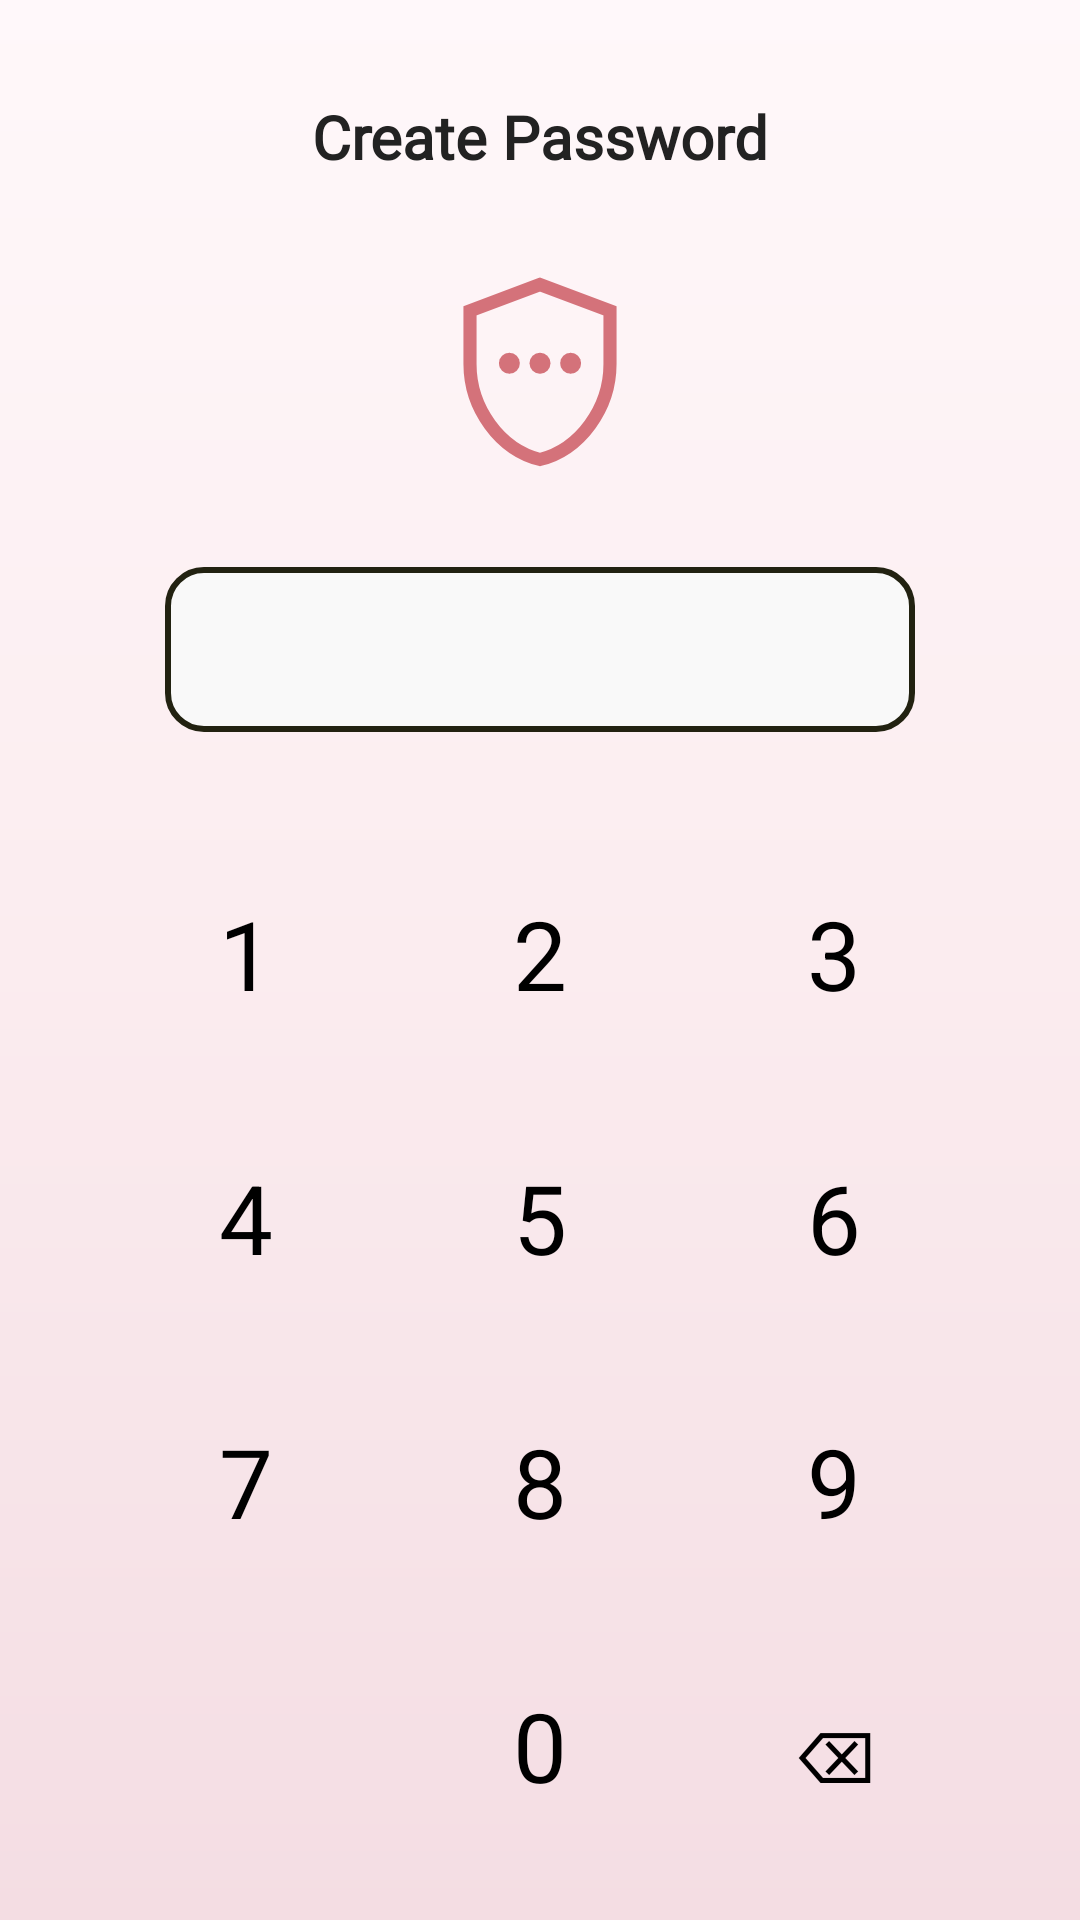

Icons on this 1080w x 1920h Android screen, each with its box as {"left": x1, "top": y1, "right": x2, "bottom": y2}:
shield: {"left": 463, "top": 277, "right": 617, "bottom": 466}
